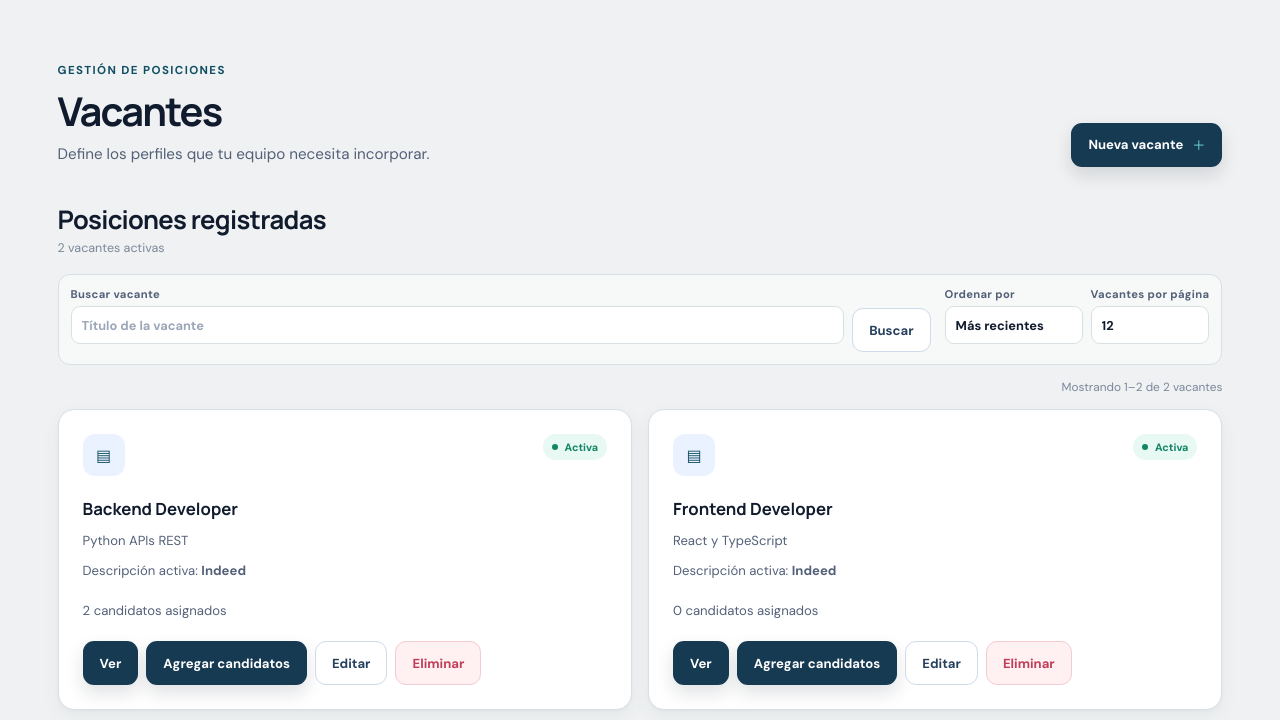
Jobs page › click Ver opens dialog with full job info
The width and height of the screenshot is (1280, 720).
Expected: the heading "Backend Developer" is shown, [83, 498, 238, 520]
Click the button "Ver" below "Python APIs REST" at (110, 663), box [83, 641, 138, 685]
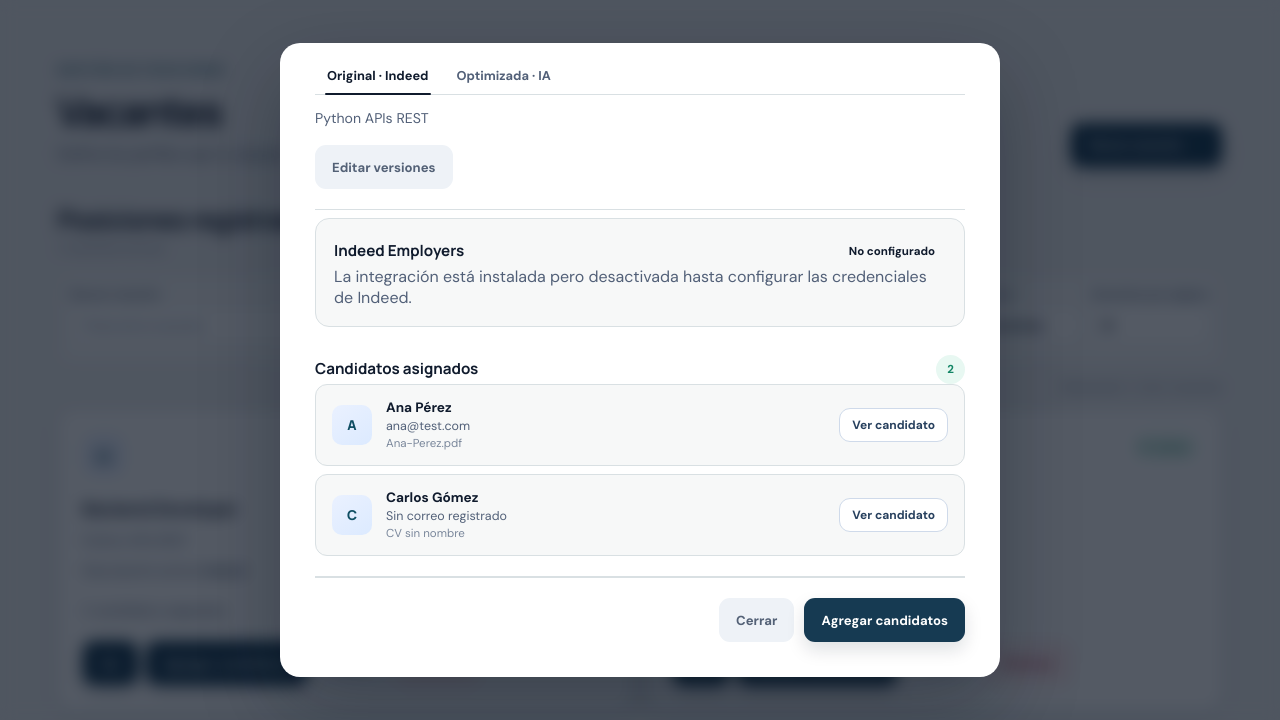
Now the dialog shows "Python APIs REST", box [315, 109, 428, 127]
Now the heading "Candidatos asignados" is shown, box [315, 359, 478, 380]
